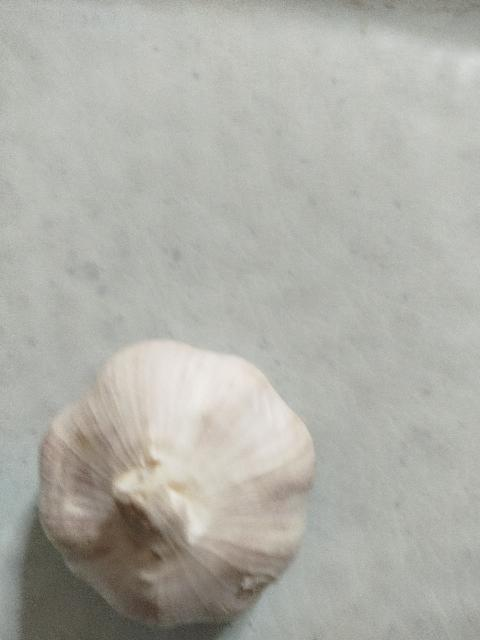garlic: (36, 338, 316, 630)
